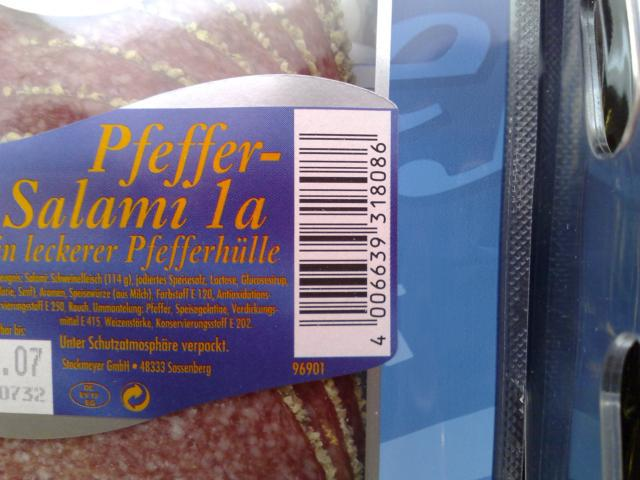Barkod: (296, 129, 368, 328)
